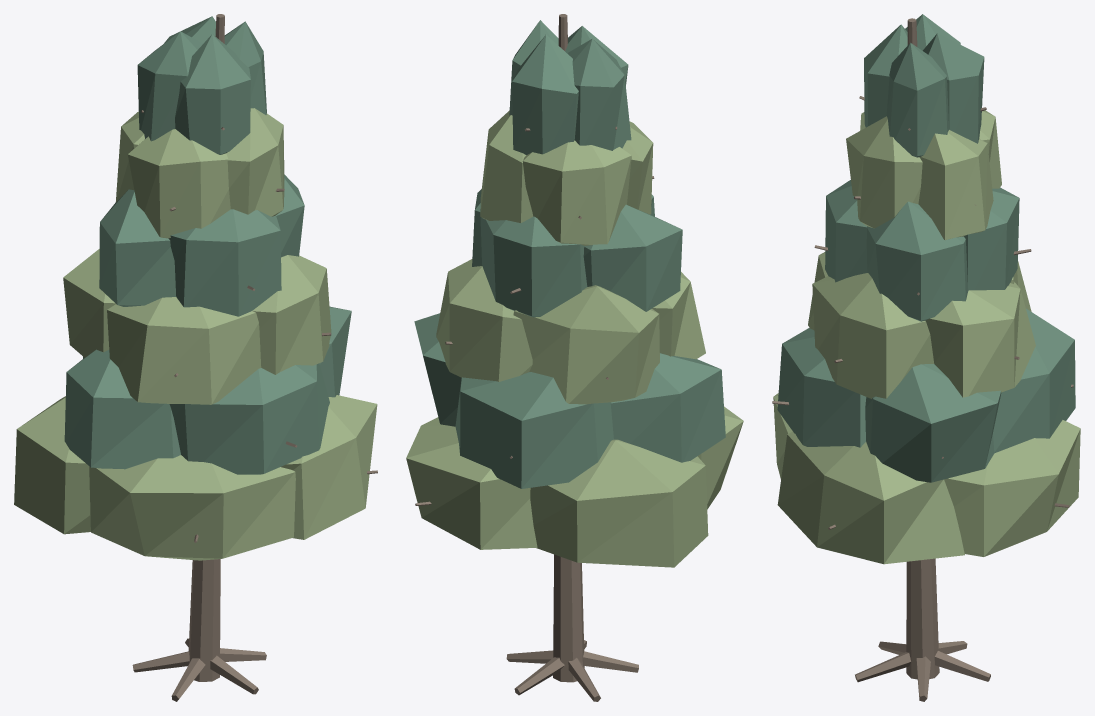
Rendered from cedar-1.glb.
3 renders of one model, left to right at view 1: azimuth 30°, elevation 25°; view 2: azimuth 150°, elevation 25°; view 3: azimuth 270°, elevation 25°, orthographic.
Size of the model in its own units: 7.94 by 16.61 by 7.05.
